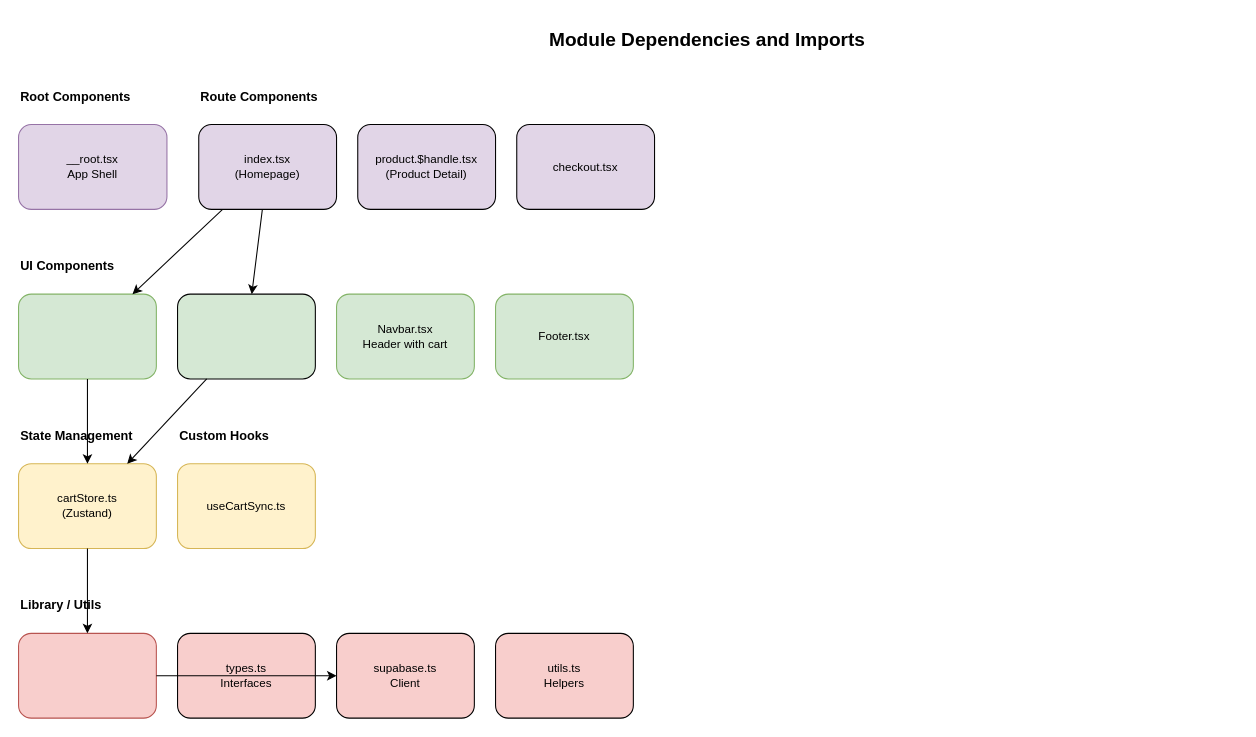
Some shapes in this 1256 by 737 pixel diagram are drawn without their labels. The shapes that lost their labels are listed below. From the top down, each one's centre as x and y in pixels, then its label:
[86,336]: CartDrawer.tsx Shopping bag UI
[245,336]: ProductCard.tsx Product listing
[86,675]: catalog.ts getProducts()
